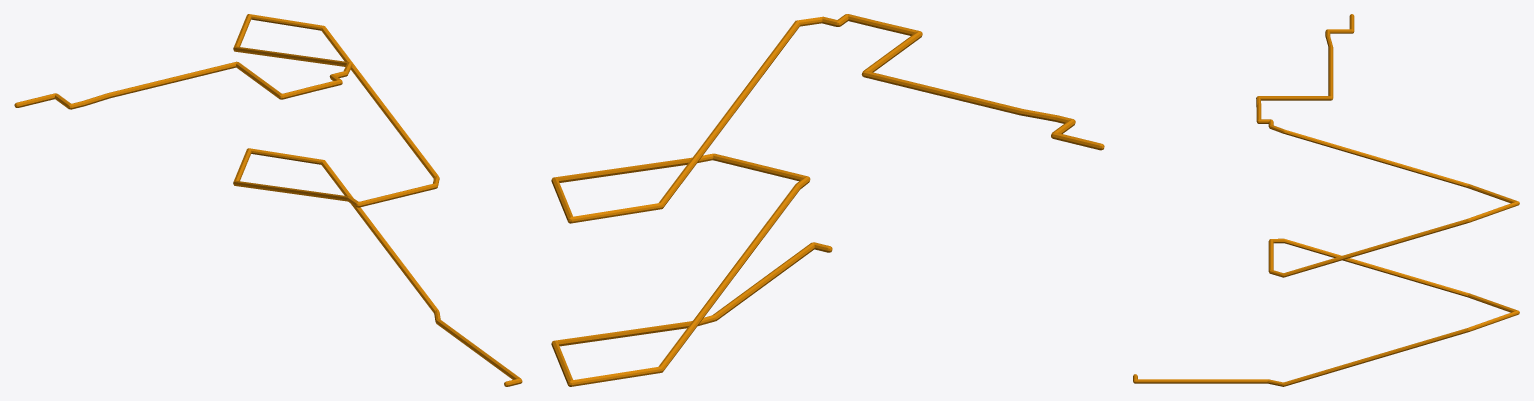
3 renders of one model, left to right at view 1: azimuth 30°, elevation 25°; view 2: azimuth 150°, elevation 25°; view 3: azimuth 270°, elevation 25°, orthographic. The views are drawn at different scales.
Size of the model in its own units: 1492 by 1020 by 1605.
